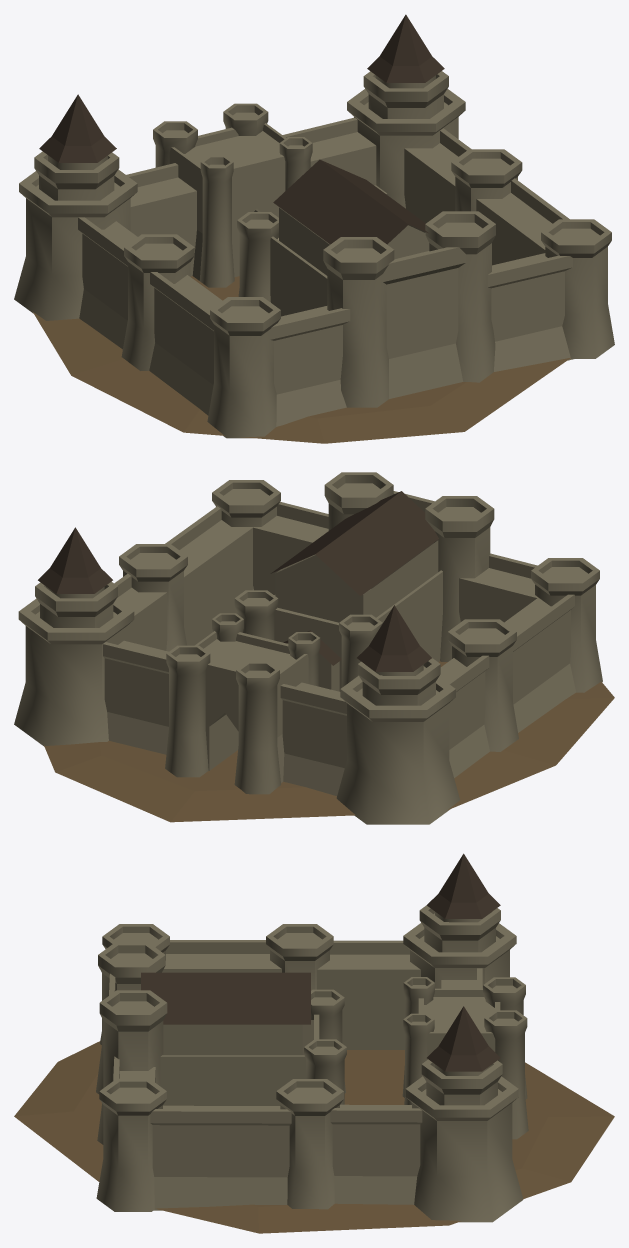
Rendered from castle.glb.
3 views of the same model, one above another, from view 1: azimuth 30°, elevation 25°; view 2: azimuth 150°, elevation 25°; view 3: azimuth 270°, elevation 25° (orthographic). The views are drawn at different scales.
Visible parts, largest first — view 1: Castle_Ground, Castle_Main_Hall, Castle_Wall.003, Tower.010, Tower.011, Tower, Castle_Wall.004, Castle_Wall.002, Castle_Wall.001, Castle_Main_Hall.001, Tower.003, Tower.004 (+17 smaller); view 2: Castle_Ground, Castle_Main_Hall, Tower.010, Tower.012, Castle_Wall.005, Castle_Main_Hall.001, Castle_Wall.001, Castle_Wall.008, Castle_Wall, Tower.011, Tower.006, Tower.007 (+17 smaller); view 3: Castle_Ground, Castle_Main_Hall, Castle_Wall.005, Tower.012, Castle_Wall.006, Castle_Wall.007, Tower.004, Tower.013, Tower.003, Tower.010, Castle_Wall.001, Tower.007 (+13 smaller).
Boxes of the visible parts, x1,y1,x2,y2 form: Castle_Ground: (33, 276, 570, 443); Castle_Main_Hall: (270, 159, 429, 316); Castle_Wall.003: (383, 247, 466, 398); Tower.010: (14, 169, 137, 320); Tower.011: (323, 237, 394, 407); Tower: (207, 297, 280, 438); Castle_Wall.004: (487, 253, 573, 371); Castle_Wall.002: (270, 306, 350, 426); Castle_Wall.001: (149, 272, 222, 415); Castle_Main_Hall.001: (169, 123, 285, 280); Tower.003: (425, 211, 495, 382); Tower.004: (541, 219, 614, 358); Castle_Ground: (44, 661, 614, 822); Castle_Main_Hall: (270, 491, 442, 691); Tower.010: (336, 675, 459, 824); Tower.012: (14, 598, 134, 746); Castle_Wall.005: (165, 506, 252, 645); Castle_Main_Hall.001: (195, 631, 308, 782); Castle_Wall.001: (504, 594, 575, 732); Castle_Wall.008: (103, 640, 168, 754); Castle_Wall: (280, 682, 346, 795); Tower.011: (425, 496, 494, 661); Tower.006: (234, 662, 280, 794); Tower.007: (165, 645, 210, 777); Castle_Ground: (14, 1041, 614, 1233); Castle_Main_Hall: (141, 972, 319, 1105); Castle_Wall.005: (150, 1105, 291, 1210); Tower.012: (405, 1076, 523, 1222); Castle_Wall.006: (330, 1104, 422, 1204); Castle_Wall.007: (317, 940, 420, 1049); Tower.004: (96, 1079, 166, 1211); Tower.013: (276, 1079, 343, 1209); Tower.003: (97, 990, 167, 1144); Tower.010: (403, 923, 516, 988); Castle_Wall.001: (162, 940, 281, 972); Tower.007: (484, 1010, 528, 1139).
Bounding box in the file's own units: 1.59 × 0.6508 × 1.77.
